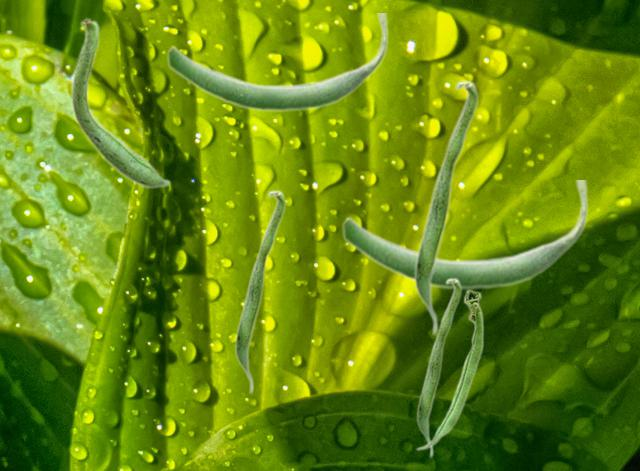french_bean: (341, 180, 588, 290), (166, 13, 388, 112), (70, 16, 170, 188), (413, 79, 478, 336), (415, 288, 483, 450), (234, 189, 285, 394), (416, 277, 461, 458)
